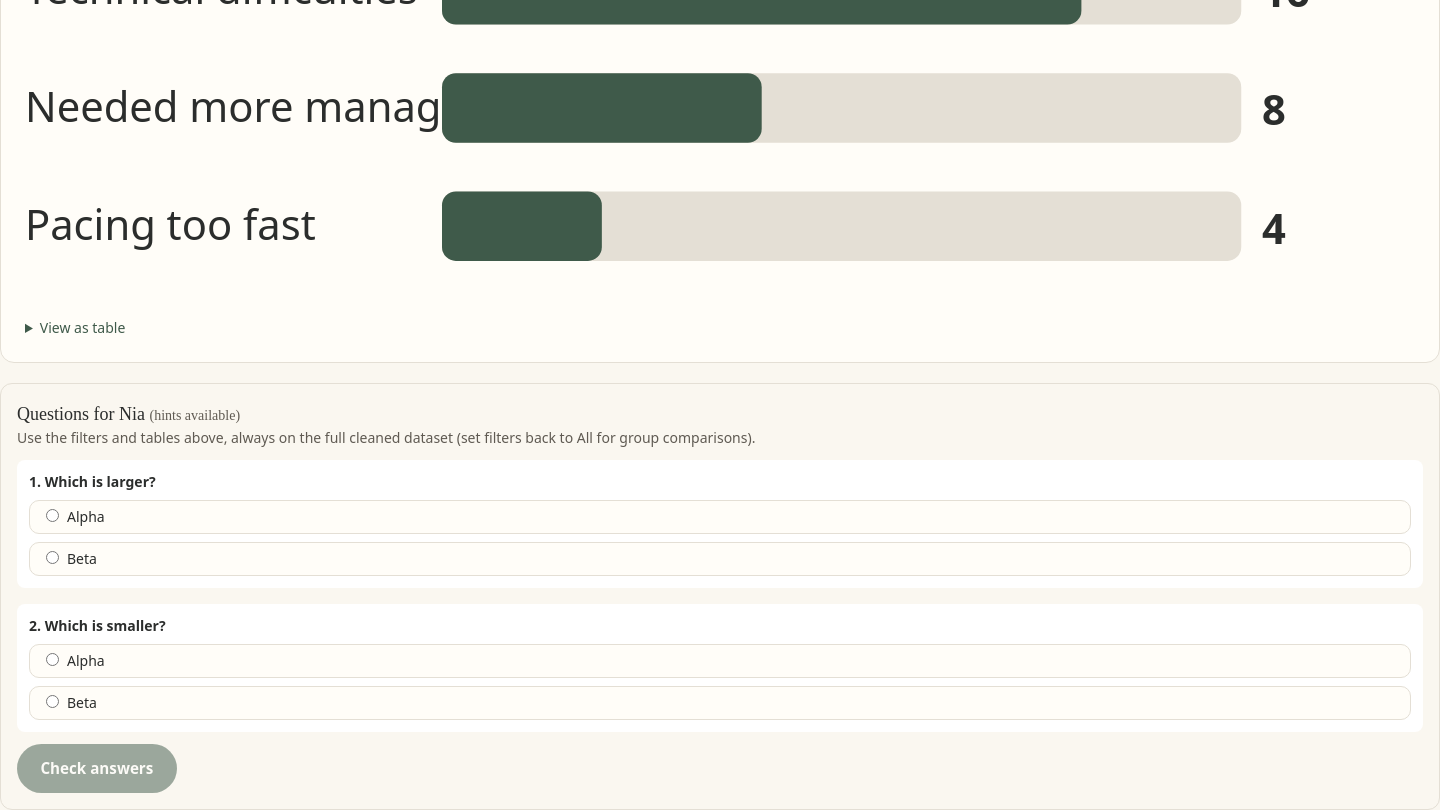
Test case: Explorer › disables checking until all answered, then reports the score
This screenshot has width=1440, height=810.
(page scrolled)
Check: the button "Check answers" is disabled, box [17,744,177,793]
Click the radio button labelled "Beta" below "Which is larger?".
click(52, 557)  # box [46,551,59,564]
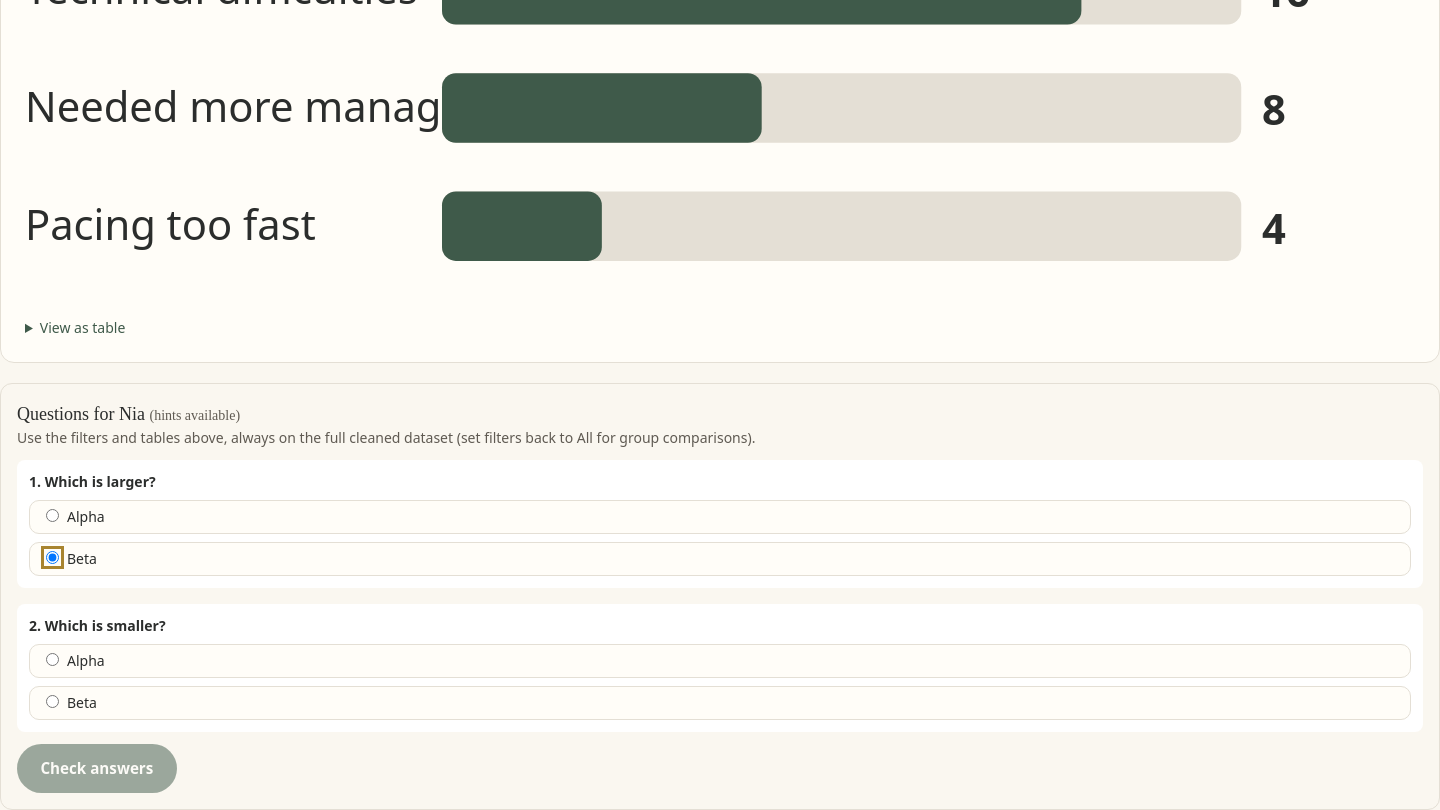
Click the radio button labelled "Alpha" below "Which is smaller?".
click(52, 659)  # box [46,653,59,666]
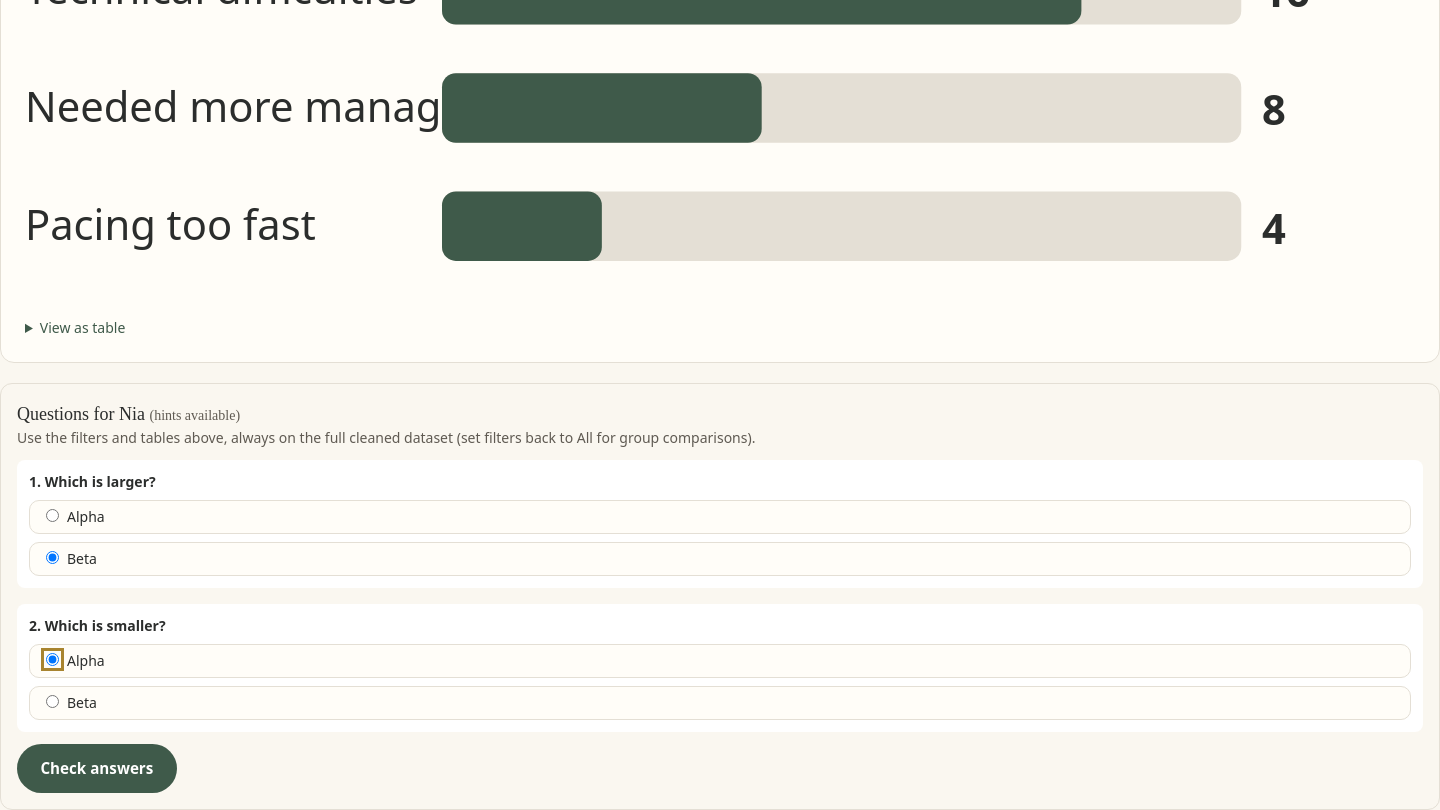
Check: the button "Check answers" is enabled
Click the button "Check answers".
click(97, 769)  # box [17,744,177,793]
(page scrolled)
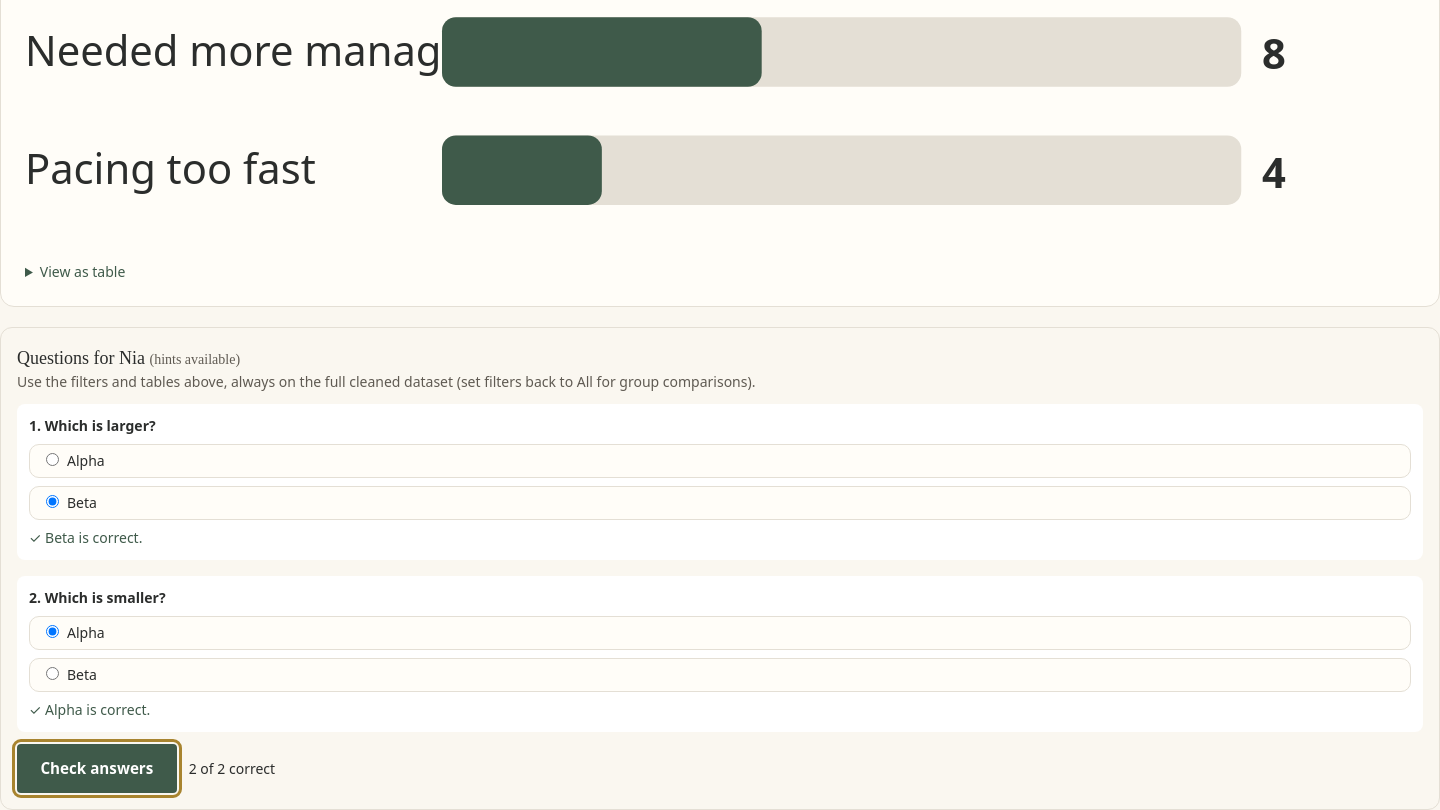
Check: the text "2 of 2 correct" is shown, box [189,759,275,779]
